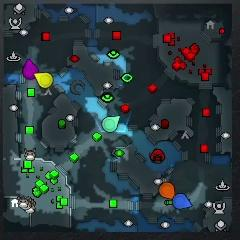p1: (173, 194, 193, 209)
p2: (102, 116, 121, 132)
p3: (23, 59, 38, 79)
p4: (34, 73, 53, 88)
p5: (160, 182, 175, 199)
